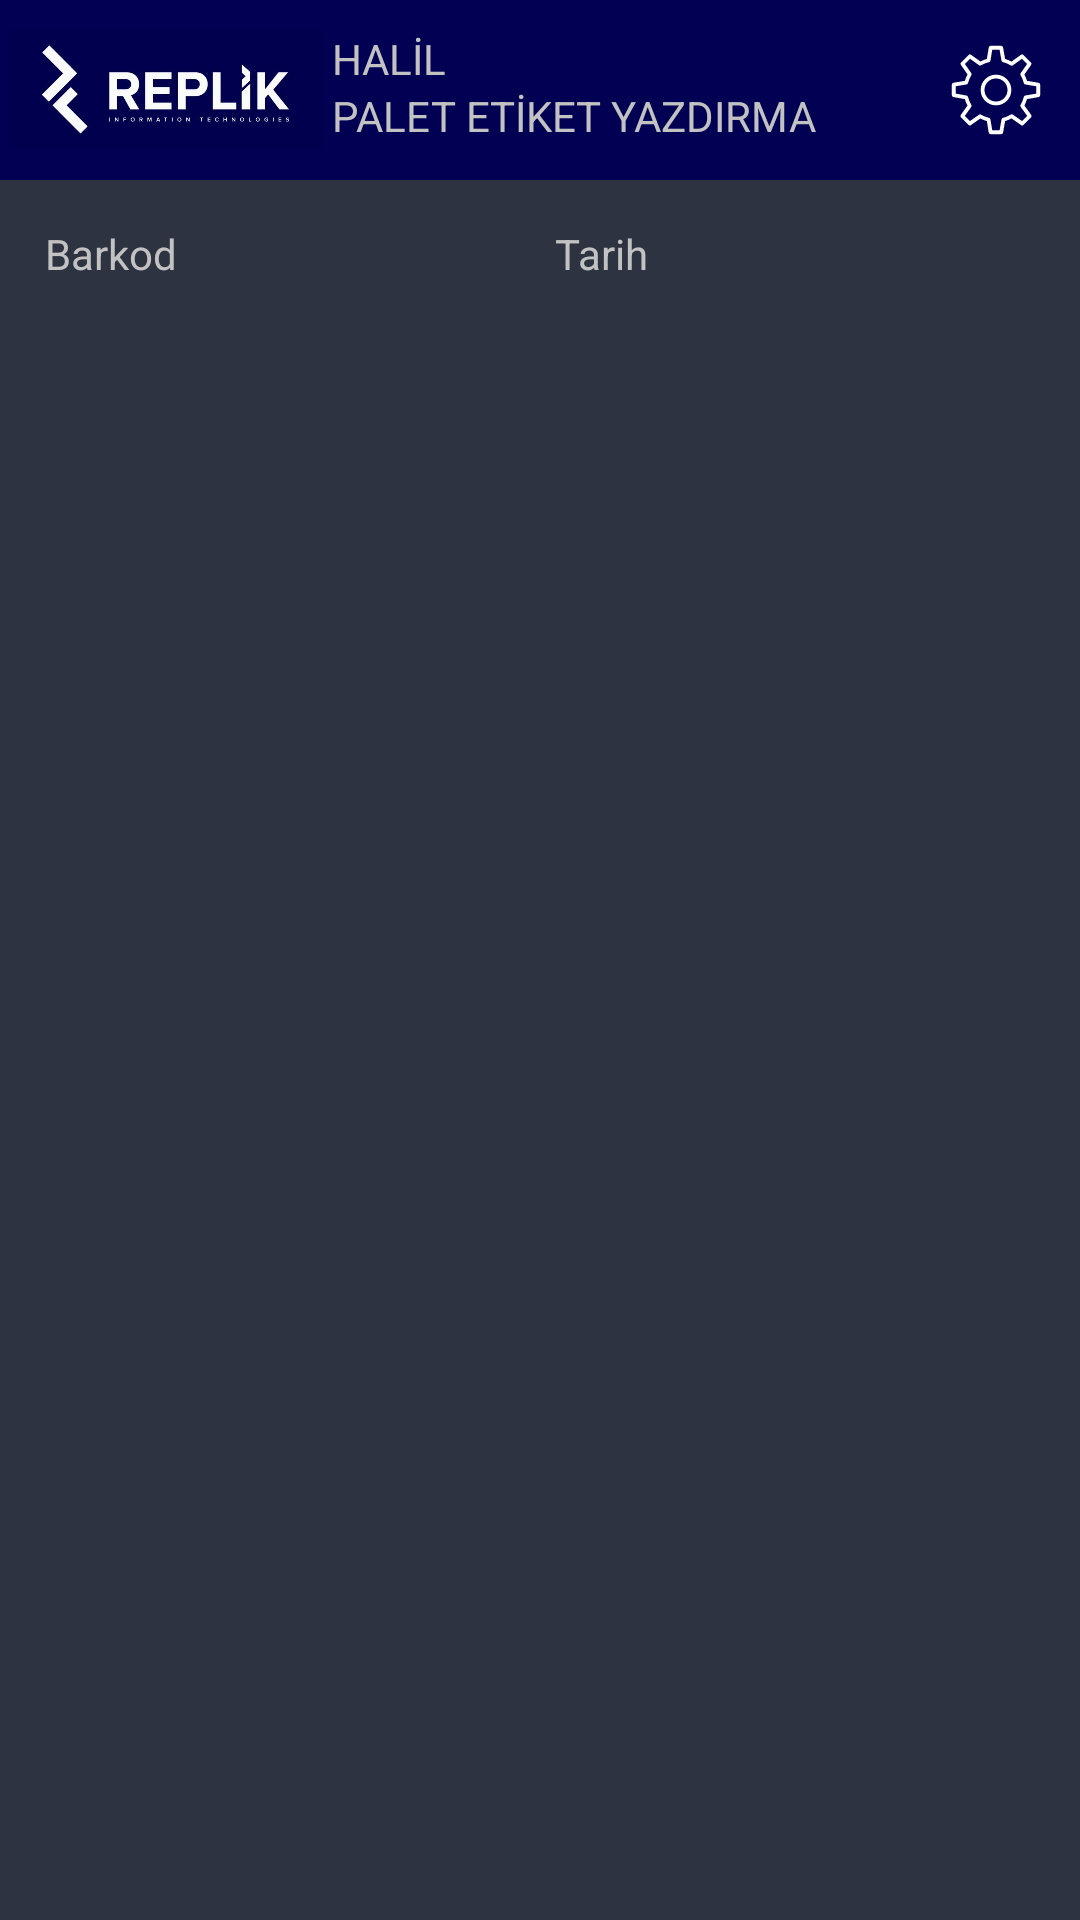

Named icons in this screenshot (1080*1920) and their bounding boxes, (x1, y1, x2, y2):
settings: (951, 45, 1041, 135)
